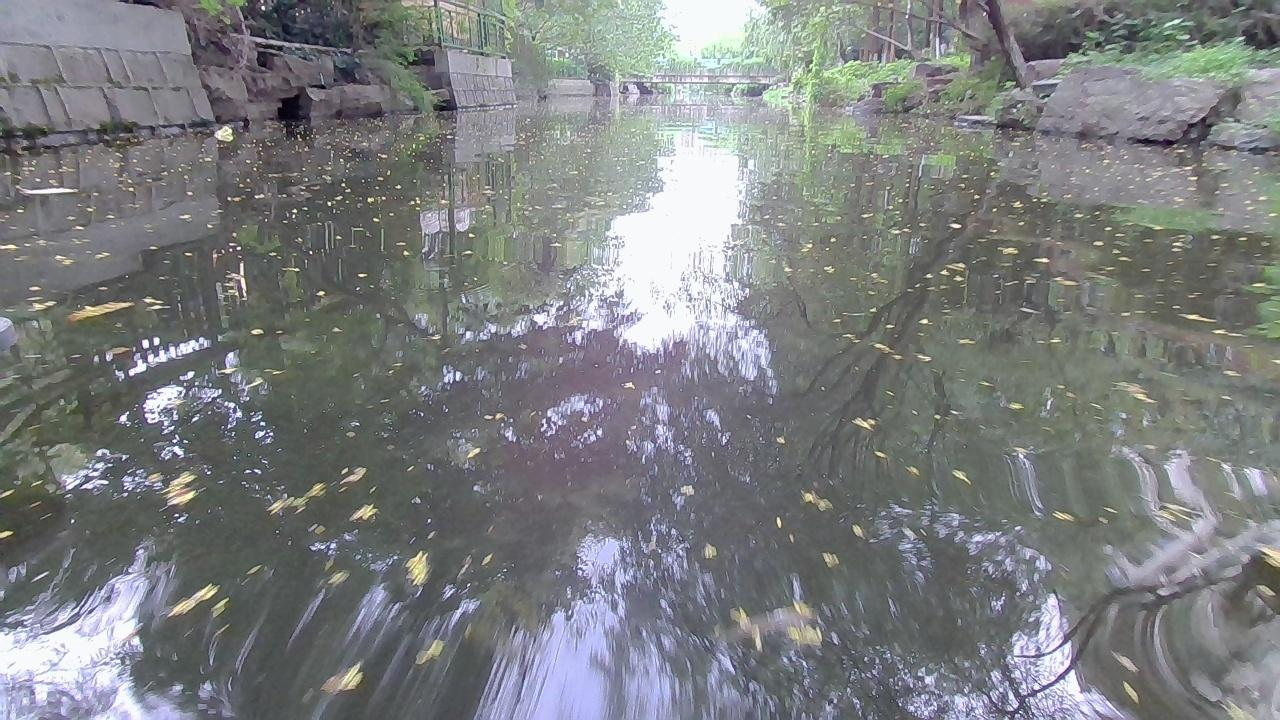bottle: (212, 126, 233, 140)
